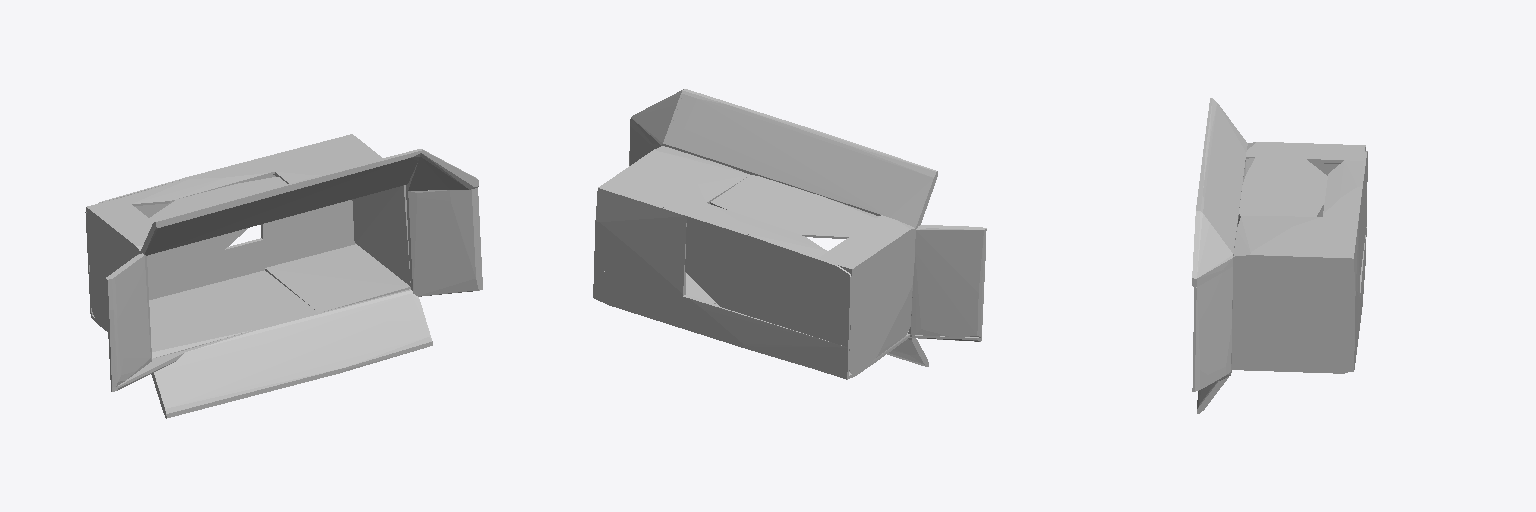
3 renders of one model, left to right at view 1: azimuth 30°, elevation 25°; view 2: azimuth 150°, elevation 25°; view 3: azimuth 270°, elevation 25°, orthographic.
Parts seen in each view (by area): view 1: ShapeIndexedFaceSet_ShapeIndexedFaceSet.001, ShapeIndexedFaceSet.009_ShapeIndexedFaceSet.010, ShapeIndexedFaceSet.004_ShapeIndexedFaceSet.005, ShapeIndexedFaceSet.016_ShapeIndexedFaceSet.017, ShapeIndexedFaceSet.003_ShapeIndexedFaceSet.004, ShapeIndexedFaceSet.015_ShapeIndexedFaceSet.016, ShapeIndexedFaceSet.010_ShapeIndexedFaceSet.011, ShapeIndexedFaceSet.005_ShapeIndexedFaceSet.006, ShapeIndexedFaceSet.006_ShapeIndexedFaceSet.007, ShapeIndexedFaceSet.007_ShapeIndexedFaceSet.008, ShapeIndexedFaceSet.012_ShapeIndexedFaceSet.013, ShapeIndexedFaceSet.002_ShapeIndexedFaceSet.003 (+5 smaller); view 2: ShapeIndexedFaceSet.009_ShapeIndexedFaceSet.010, ShapeIndexedFaceSet.002_ShapeIndexedFaceSet.003, ShapeIndexedFaceSet.003_ShapeIndexedFaceSet.004, ShapeIndexedFaceSet.010_ShapeIndexedFaceSet.011, ShapeIndexedFaceSet.001_ShapeIndexedFaceSet.002, ShapeIndexedFaceSet.007_ShapeIndexedFaceSet.008, ShapeIndexedFaceSet.013_ShapeIndexedFaceSet.014, ShapeIndexedFaceSet.006_ShapeIndexedFaceSet.007, ShapeIndexedFaceSet.014_ShapeIndexedFaceSet.015, ShapeIndexedFaceSet.012_ShapeIndexedFaceSet.013, ShapeIndexedFaceSet.008_ShapeIndexedFaceSet.009, ShapeIndexedFaceSet_ShapeIndexedFaceSet.001; view 3: ShapeIndexedFaceSet.005_ShapeIndexedFaceSet.006, ShapeIndexedFaceSet.009_ShapeIndexedFaceSet.010, ShapeIndexedFaceSet.013_ShapeIndexedFaceSet.014, ShapeIndexedFaceSet.006_ShapeIndexedFaceSet.007, ShapeIndexedFaceSet.016_ShapeIndexedFaceSet.017, ShapeIndexedFaceSet.014_ShapeIndexedFaceSet.015, ShapeIndexedFaceSet.008_ShapeIndexedFaceSet.009, ShapeIndexedFaceSet.012_ShapeIndexedFaceSet.013, ShapeIndexedFaceSet.001_ShapeIndexedFaceSet.002, ShapeIndexedFaceSet.002_ShapeIndexedFaceSet.003, ShapeIndexedFaceSet.003_ShapeIndexedFaceSet.004.
Part boxes in pixels (left/top/right/bottom): ShapeIndexedFaceSet_ShapeIndexedFaceSet.001: left=151, top=289, right=432, bottom=418; ShapeIndexedFaceSet.009_ShapeIndexedFaceSet.010: left=140, top=149, right=420, bottom=255; ShapeIndexedFaceSet.004_ShapeIndexedFaceSet.005: left=91, top=270, right=317, bottom=358; ShapeIndexedFaceSet.016_ShapeIndexedFaceSet.017: left=406, top=188, right=482, bottom=296; ShapeIndexedFaceSet.003_ShapeIndexedFaceSet.004: left=89, top=217, right=355, bottom=314; ShapeIndexedFaceSet.015_ShapeIndexedFaceSet.016: left=265, top=244, right=410, bottom=312; ShapeIndexedFaceSet.010_ShapeIndexedFaceSet.011: left=106, top=253, right=151, bottom=387; ShapeIndexedFaceSet.005_ShapeIndexedFaceSet.006: left=350, top=135, right=410, bottom=286; ShapeIndexedFaceSet.006_ShapeIndexedFaceSet.007: left=260, top=136, right=378, bottom=183; ShapeIndexedFaceSet.007_ShapeIndexedFaceSet.008: left=88, top=213, right=139, bottom=327; ShapeIndexedFaceSet.012_ShapeIndexedFaceSet.013: left=123, top=159, right=274, bottom=205; ShapeIndexedFaceSet.002_ShapeIndexedFaceSet.003: left=85, top=159, right=259, bottom=284; ShapeIndexedFaceSet.009_ShapeIndexedFaceSet.010: left=665, top=89, right=937, bottom=228; ShapeIndexedFaceSet.002_ShapeIndexedFaceSet.003: left=685, top=215, right=851, bottom=346; ShapeIndexedFaceSet.003_ShapeIndexedFaceSet.004: left=593, top=268, right=849, bottom=377; ShapeIndexedFaceSet.010_ShapeIndexedFaceSet.011: left=908, top=225, right=986, bottom=337; ShapeIndexedFaceSet.001_ShapeIndexedFaceSet.002: left=594, top=187, right=687, bottom=295; ShapeIndexedFaceSet.007_ShapeIndexedFaceSet.008: left=849, top=230, right=915, bottom=373; ShapeIndexedFaceSet.013_ShapeIndexedFaceSet.014: left=710, top=175, right=878, bottom=238; ShapeIndexedFaceSet.006_ShapeIndexedFaceSet.007: left=604, top=147, right=749, bottom=214; ShapeIndexedFaceSet.014_ShapeIndexedFaceSet.015: left=819, top=215, right=915, bottom=273; ShapeIndexedFaceSet.012_ShapeIndexedFaceSet.013: left=689, top=203, right=827, bottom=257; ShapeIndexedFaceSet.008_ShapeIndexedFaceSet.009: left=630, top=89, right=686, bottom=148; ShapeIndexedFaceSet_ShapeIndexedFaceSet.001: left=887, top=338, right=928, bottom=366; ShapeIndexedFaceSet.005_ShapeIndexedFaceSet.006: left=1231, top=253, right=1350, bottom=369; ShapeIndexedFaceSet.009_ShapeIndexedFaceSet.010: left=1196, top=98, right=1247, bottom=252; ShapeIndexedFaceSet.013_ShapeIndexedFaceSet.014: left=1239, top=157, right=1327, bottom=217; ShapeIndexedFaceSet.006_ShapeIndexedFaceSet.007: left=1234, top=216, right=1355, bottom=256; ShapeIndexedFaceSet.016_ShapeIndexedFaceSet.017: left=1192, top=267, right=1232, bottom=391; ShapeIndexedFaceSet.014_ShapeIndexedFaceSet.015: left=1246, top=142, right=1365, bottom=163; ShapeIndexedFaceSet.008_ShapeIndexedFaceSet.009: left=1192, top=210, right=1233, bottom=286; ShapeIndexedFaceSet.012_ShapeIndexedFaceSet.013: left=1323, top=160, right=1363, bottom=217; ShapeIndexedFaceSet.001_ShapeIndexedFaceSet.002: left=1350, top=218, right=1359, bottom=340; ShapeIndexedFaceSet.002_ShapeIndexedFaceSet.003: left=1356, top=151, right=1367, bottom=274; ShapeIndexedFaceSet.003_ShapeIndexedFaceSet.004: left=1349, top=227, right=1366, bottom=371.
Bounding box in the file's own units: 1.1 × 0.6081 × 0.4574.